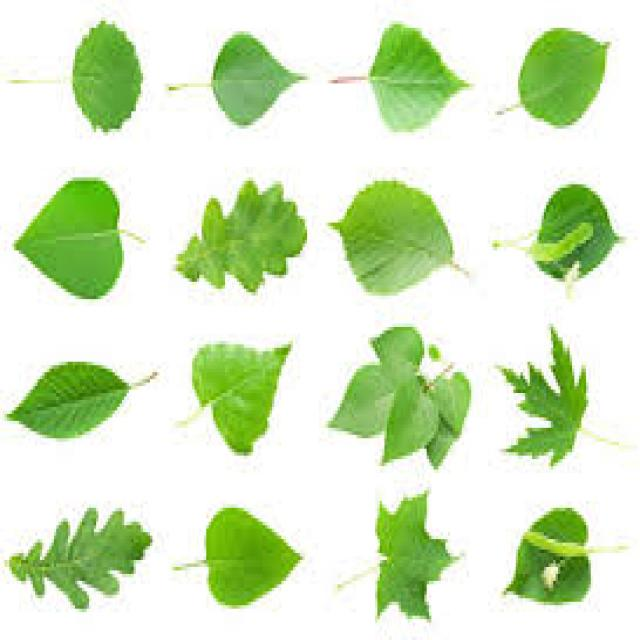leaves: (330, 326, 470, 466), (331, 180, 456, 294), (178, 182, 306, 290), (10, 508, 149, 606), (15, 180, 124, 298), (502, 330, 588, 463), (192, 343, 289, 453), (369, 24, 466, 131), (10, 362, 132, 438), (378, 493, 452, 617), (206, 508, 299, 606), (528, 185, 619, 279), (520, 32, 608, 125), (211, 35, 301, 125), (72, 22, 142, 131), (508, 508, 589, 602)
